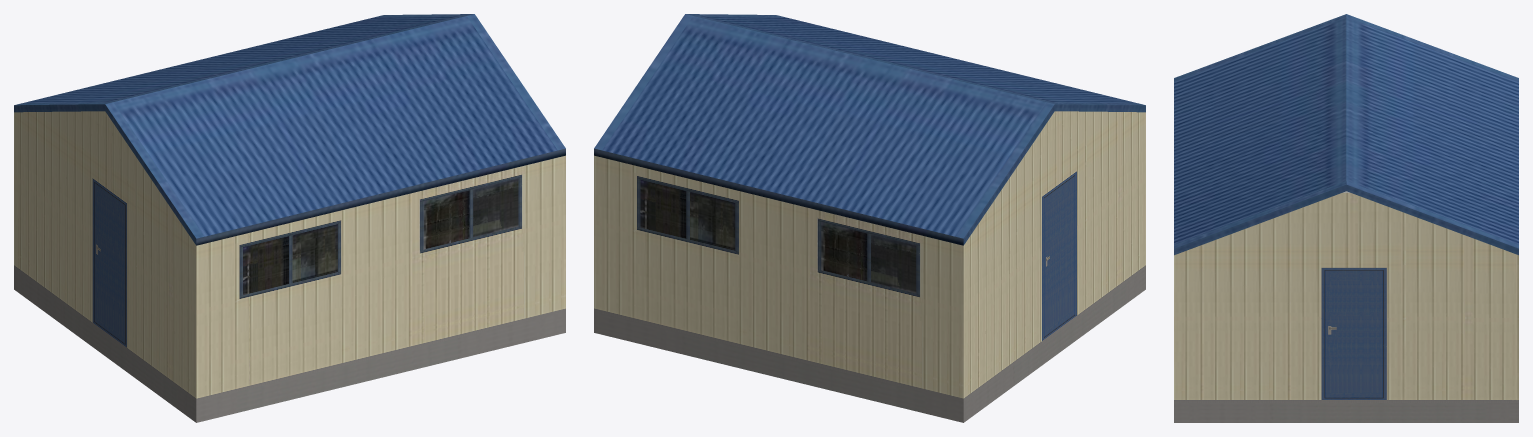
File: shed-white-blue-6x5x3-cbj_LOD00.gltf
3 renders of one model, left to right at view 1: azimuth 30°, elevation 25°; view 2: azimuth 150°, elevation 25°; view 3: azimuth 270°, elevation 25°, orthographic. The views are drawn at different scales.
Parts seen in each view (by area): view 1: Sketchup; view 2: Sketchup; view 3: Sketchup.
Part boxes in pixels (x1,y1,x2,y2): Sketchup: (14,14,565,422); Sketchup: (594,14,1145,422); Sketchup: (1174,14,1518,422).
Size of the model in its own units: 5.5 by 3.58 by 4.7.
